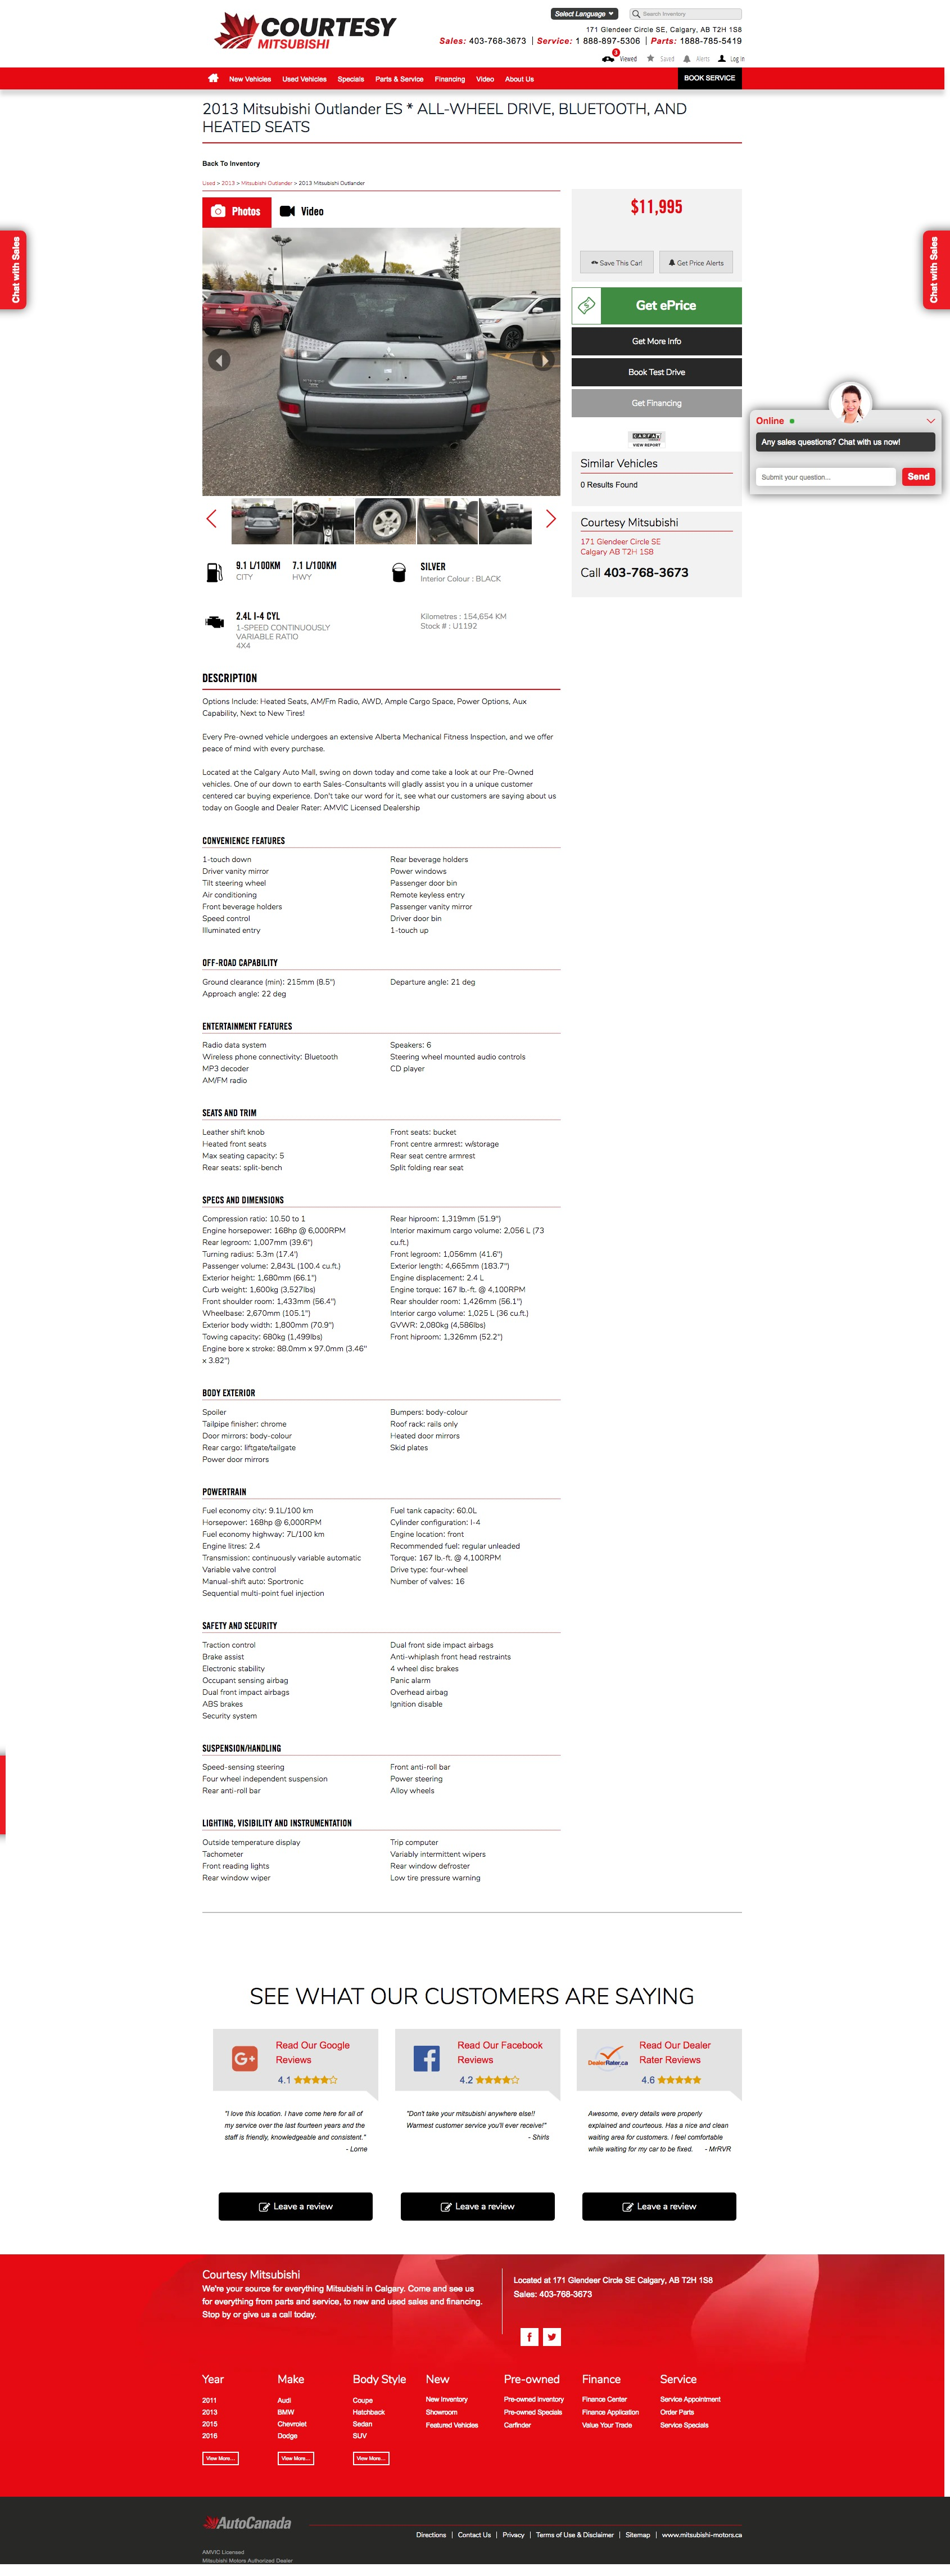car: (547, 509, 557, 529)
